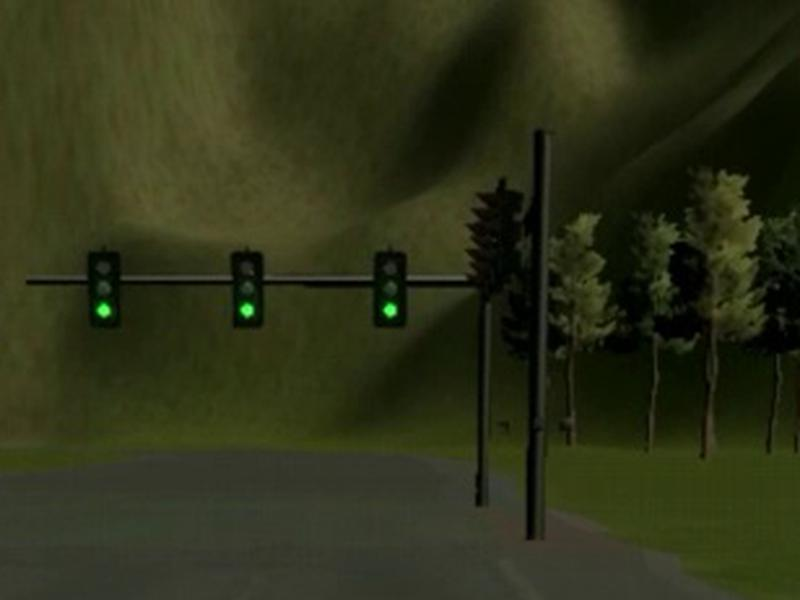Green: (86, 252, 121, 329), (231, 251, 263, 330), (374, 251, 407, 326)
